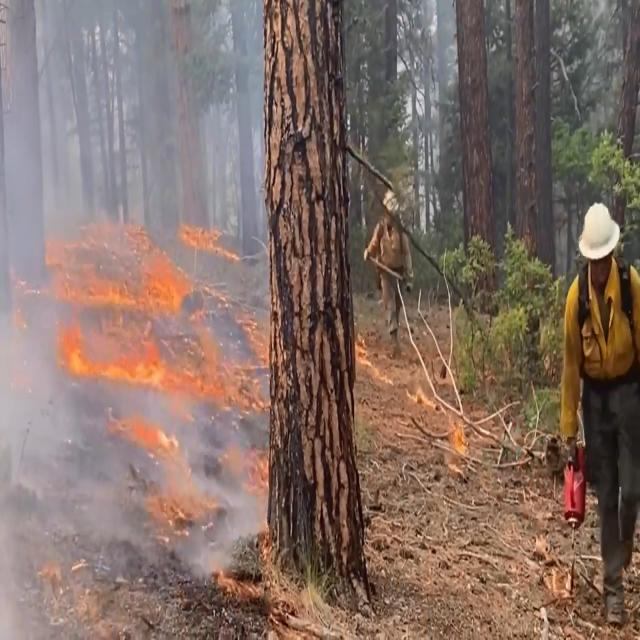Fire: (46, 221, 265, 507)
